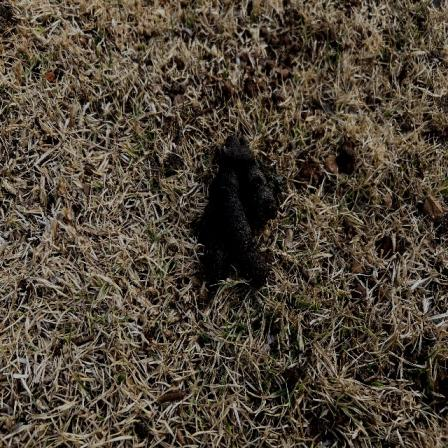dog-poop: (193, 130, 292, 291)
